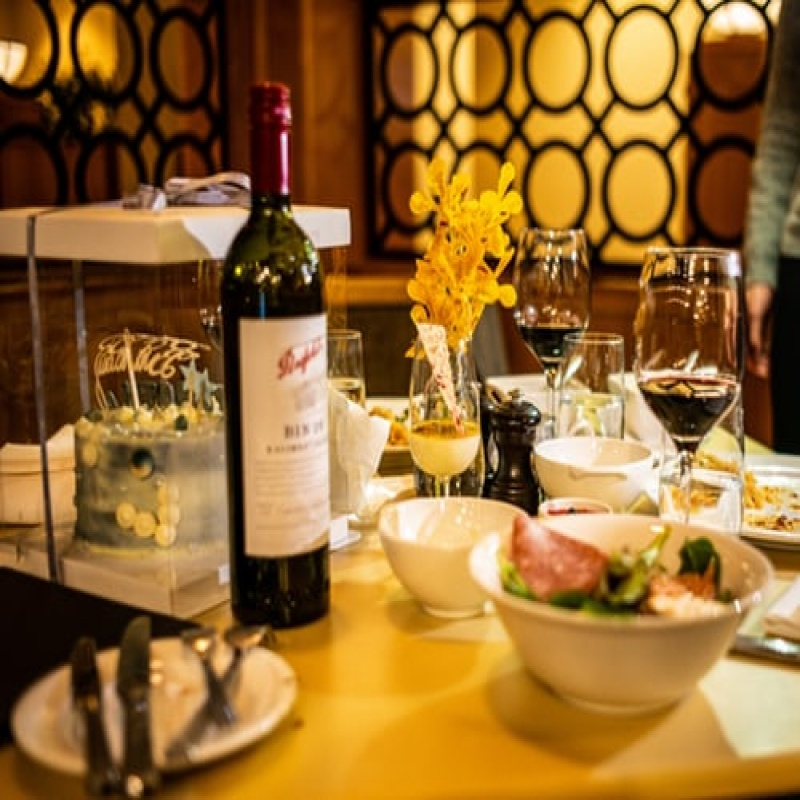wine: (219, 82, 337, 631)
